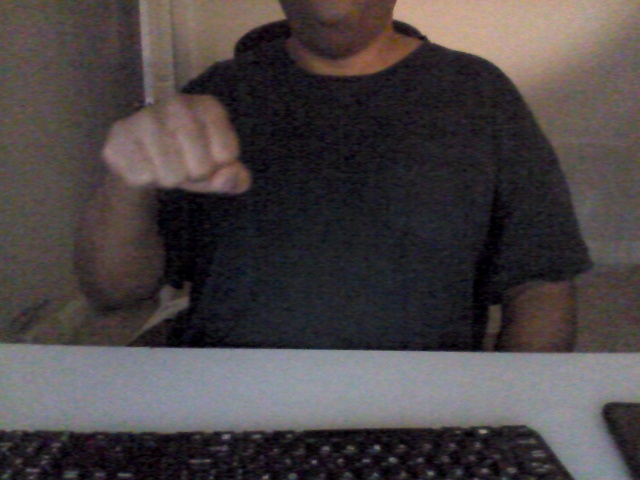yes: (93, 90, 253, 202)
